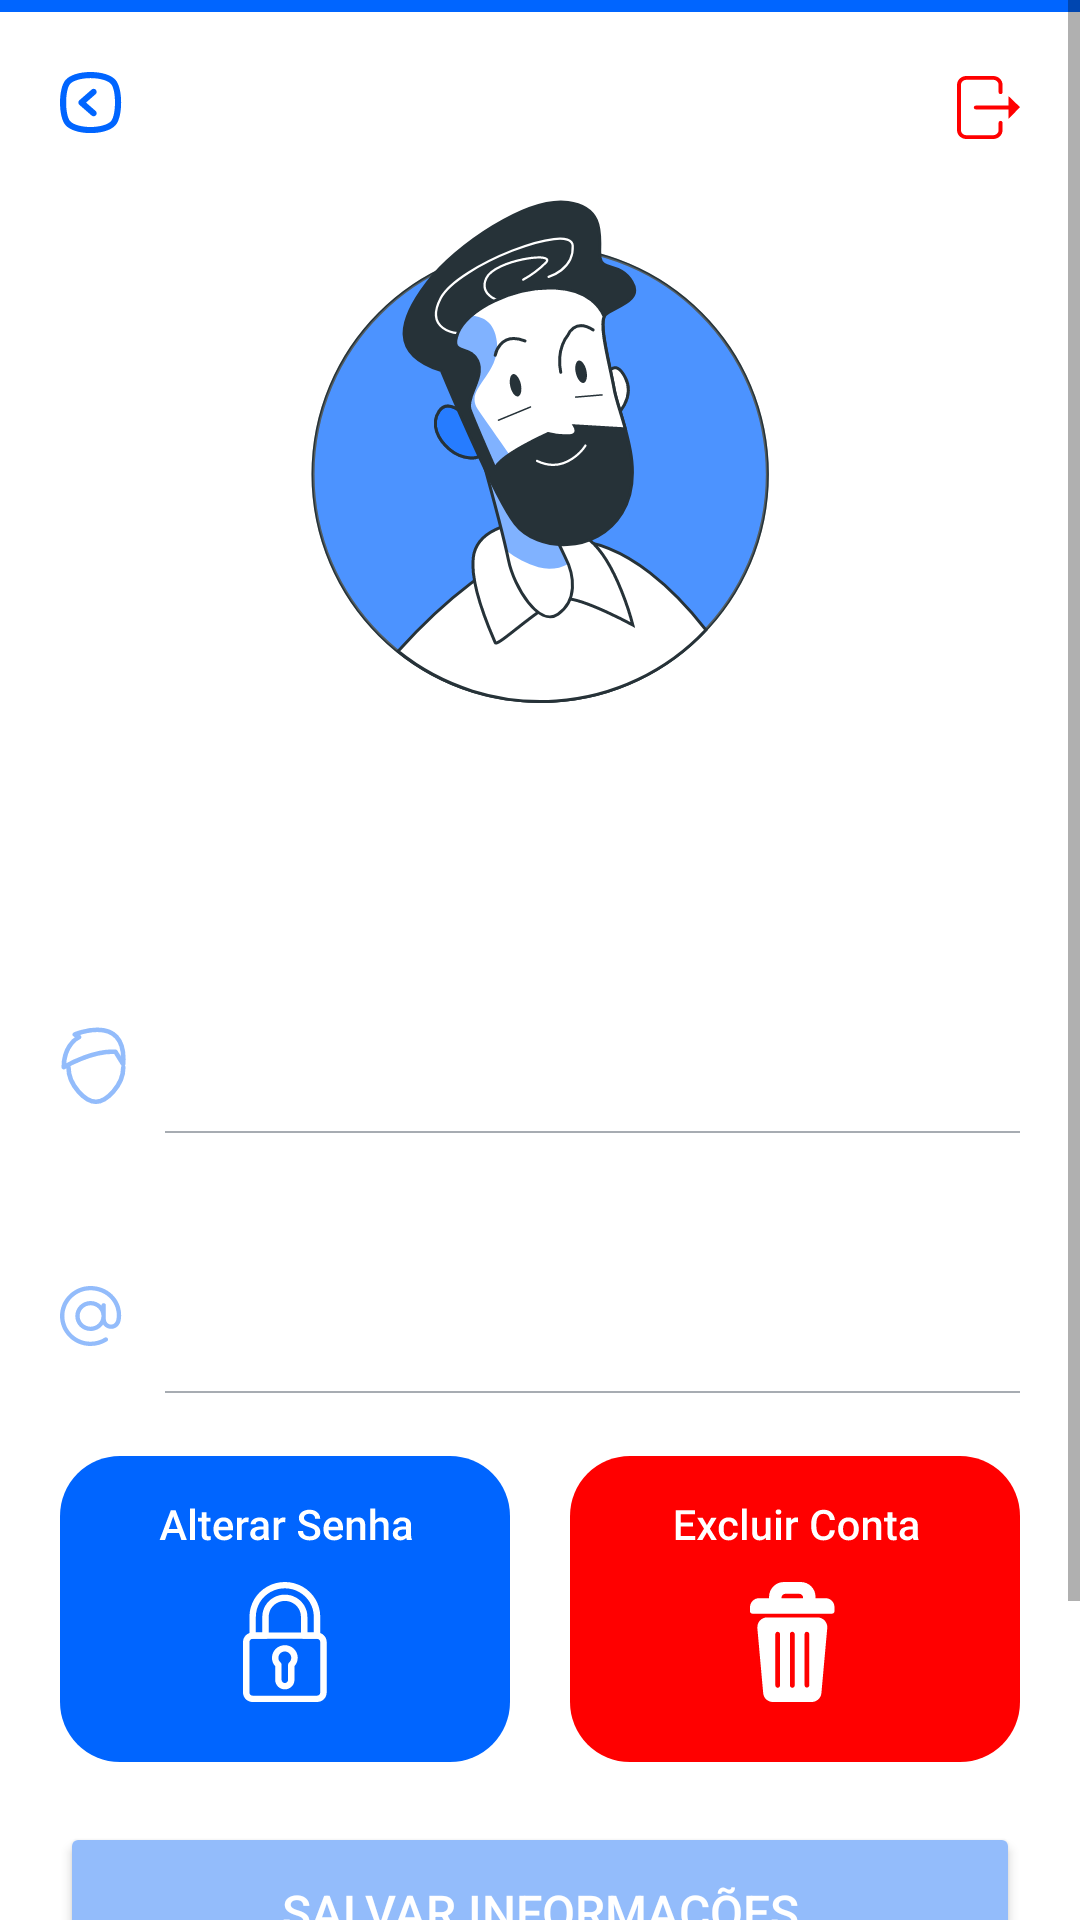

Icons on this 1080w x 1920h Android screen, each with its box as [x1=x1, y1=y1, x2=x2, y2=y2]:
back: [x1=60, y1=72, x2=122, y2=133]
email: [x1=60, y1=1286, x2=122, y2=1346]
nome: [x1=61, y1=1027, x2=126, y2=1104]
out: [x1=957, y1=76, x2=1020, y2=139]
